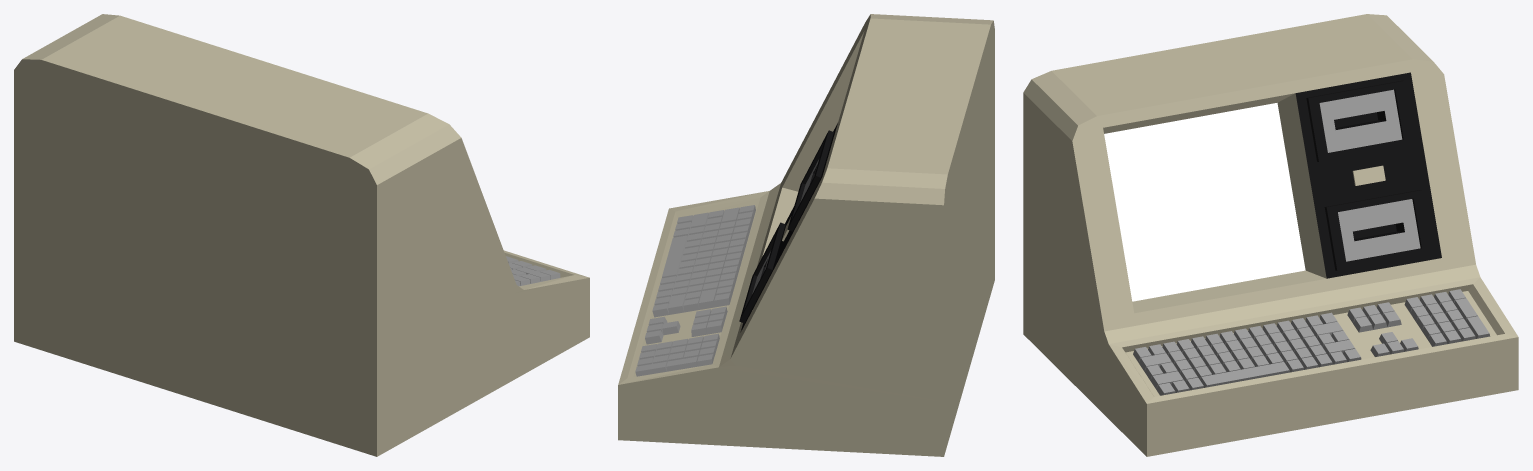
The model's file is computer1.glb.
3 renders of one model, left to right at view 1: azimuth 30°, elevation 25°; view 2: azimuth 150°, elevation 25°; view 3: azimuth 270°, elevation 25°, orthographic. The views are drawn at different scales.
Visible parts, largest first — view 1: computer1; view 2: computer1; view 3: computer1.
Part boxes in pixels (box(x1,y1,x2,y2)): computer1: box(14, 14, 589, 456); computer1: box(618, 14, 994, 456); computer1: box(1023, 14, 1518, 456).
Bounding box in the file's own units: 0.5746 × 0.3655 × 0.6347.
